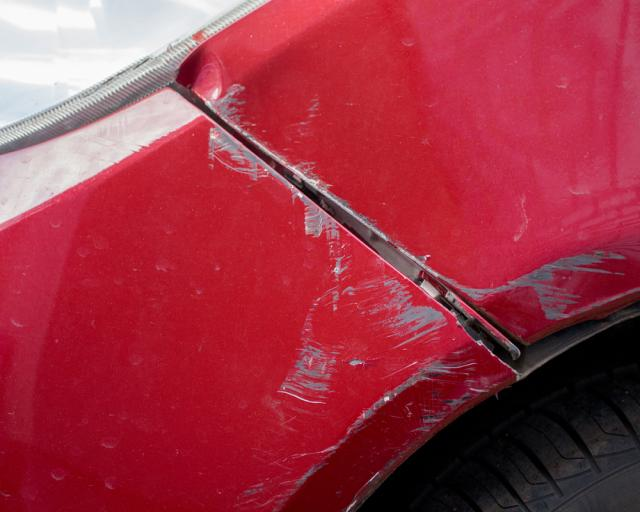dent: (175, 46, 232, 104)
scratch: (198, 123, 509, 512), (460, 248, 640, 324)
